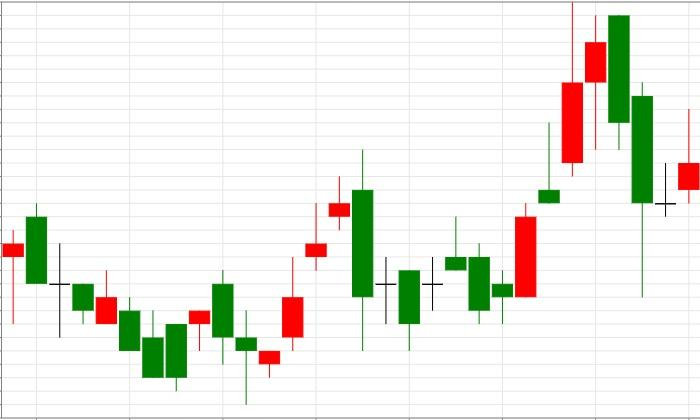bearish_engulfing_fall: (469, 1, 631, 326), (259, 149, 374, 377), (141, 269, 234, 391)
